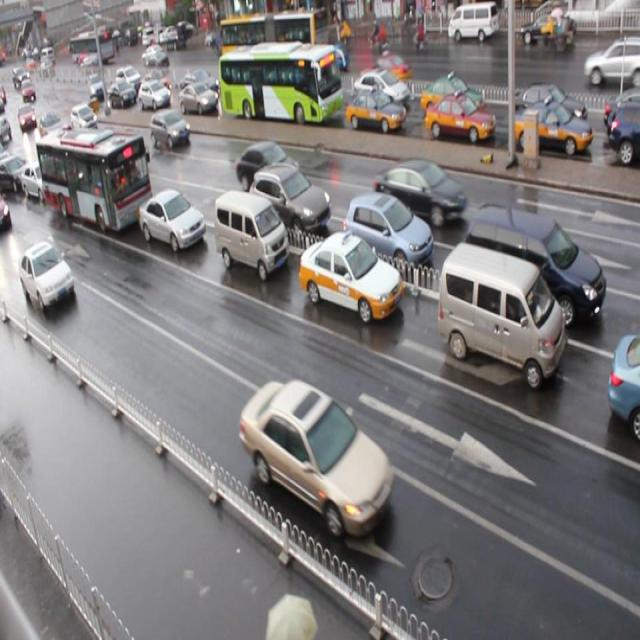car: (239, 377, 395, 538), (299, 228, 402, 322), (343, 194, 433, 278), (374, 158, 464, 230), (252, 163, 331, 234), (513, 99, 593, 158), (138, 187, 206, 252), (18, 239, 75, 312), (237, 140, 304, 197), (425, 91, 496, 142), (608, 331, 640, 436), (506, 84, 581, 128), (421, 76, 487, 120), (345, 86, 405, 133), (351, 68, 407, 109), (608, 98, 640, 160), (598, 93, 640, 135), (21, 158, 60, 203), (149, 110, 191, 151), (179, 83, 219, 115), (239, 69, 275, 103), (1, 153, 32, 192), (185, 69, 222, 97), (140, 80, 172, 112), (46, 127, 72, 162), (72, 105, 98, 134), (117, 65, 143, 94), (110, 81, 136, 109), (141, 68, 168, 94), (39, 114, 64, 140)
truck: (438, 240, 565, 388), (465, 200, 606, 331), (212, 187, 288, 280)
van: (36, 126, 154, 235), (216, 42, 340, 124)
